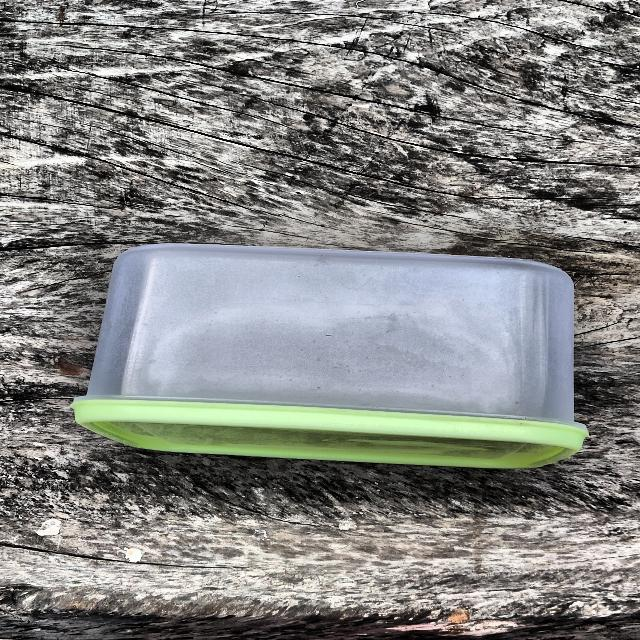plastic container: (52, 230, 588, 484)
